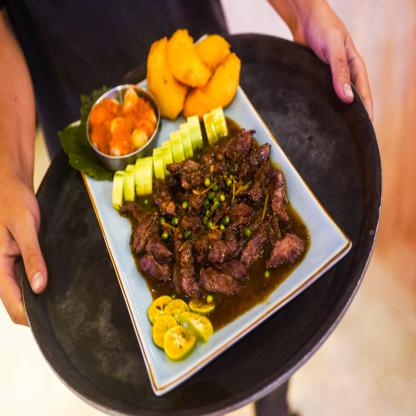Carne: (266, 230, 308, 272), (242, 218, 277, 265), (179, 242, 209, 292), (138, 249, 173, 286), (131, 213, 159, 259), (224, 127, 257, 163), (182, 160, 224, 188), (225, 202, 244, 261), (201, 266, 241, 293), (248, 158, 271, 202), (181, 215, 225, 238), (200, 243, 232, 265), (144, 234, 179, 254), (165, 158, 208, 173)
